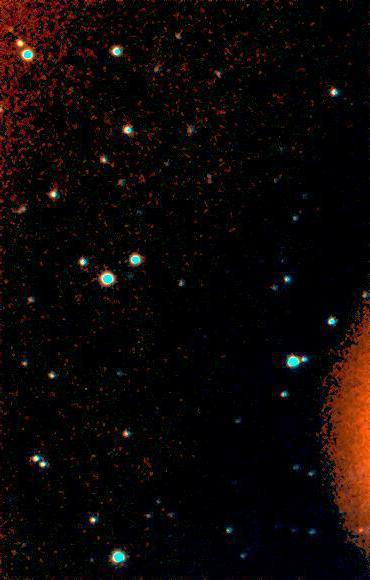star: (339, 519, 369, 549)
